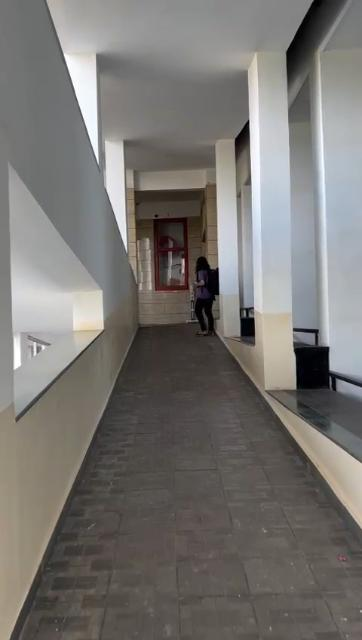floor: (16, 327, 362, 640)
moving-obj: (189, 252, 222, 328)
wall: (0, 0, 137, 640), (250, 48, 294, 390), (318, 49, 362, 339), (104, 144, 150, 326), (218, 148, 240, 340), (188, 187, 220, 251), (152, 292, 186, 322)
